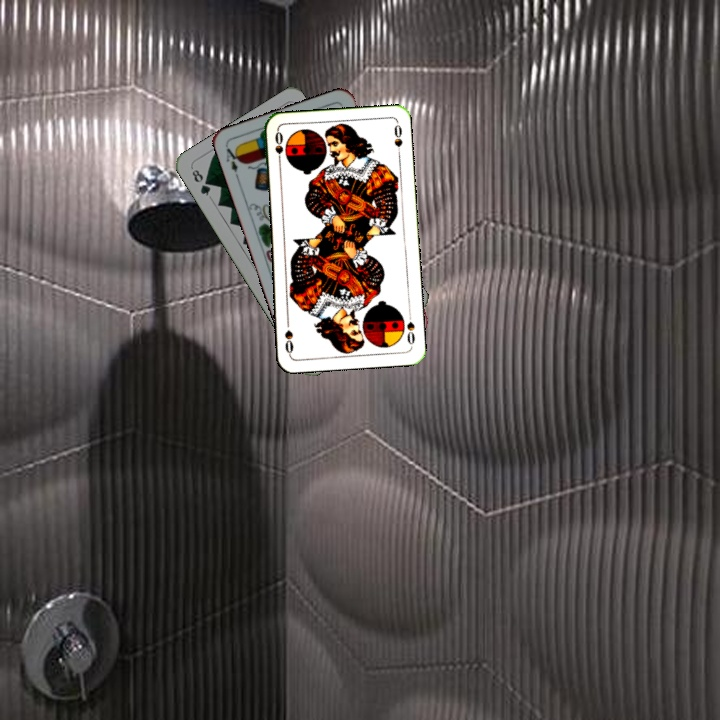EA: (222, 142, 244, 182)
G8: (188, 165, 213, 199)
SO: (271, 128, 286, 168), (403, 308, 417, 348)
